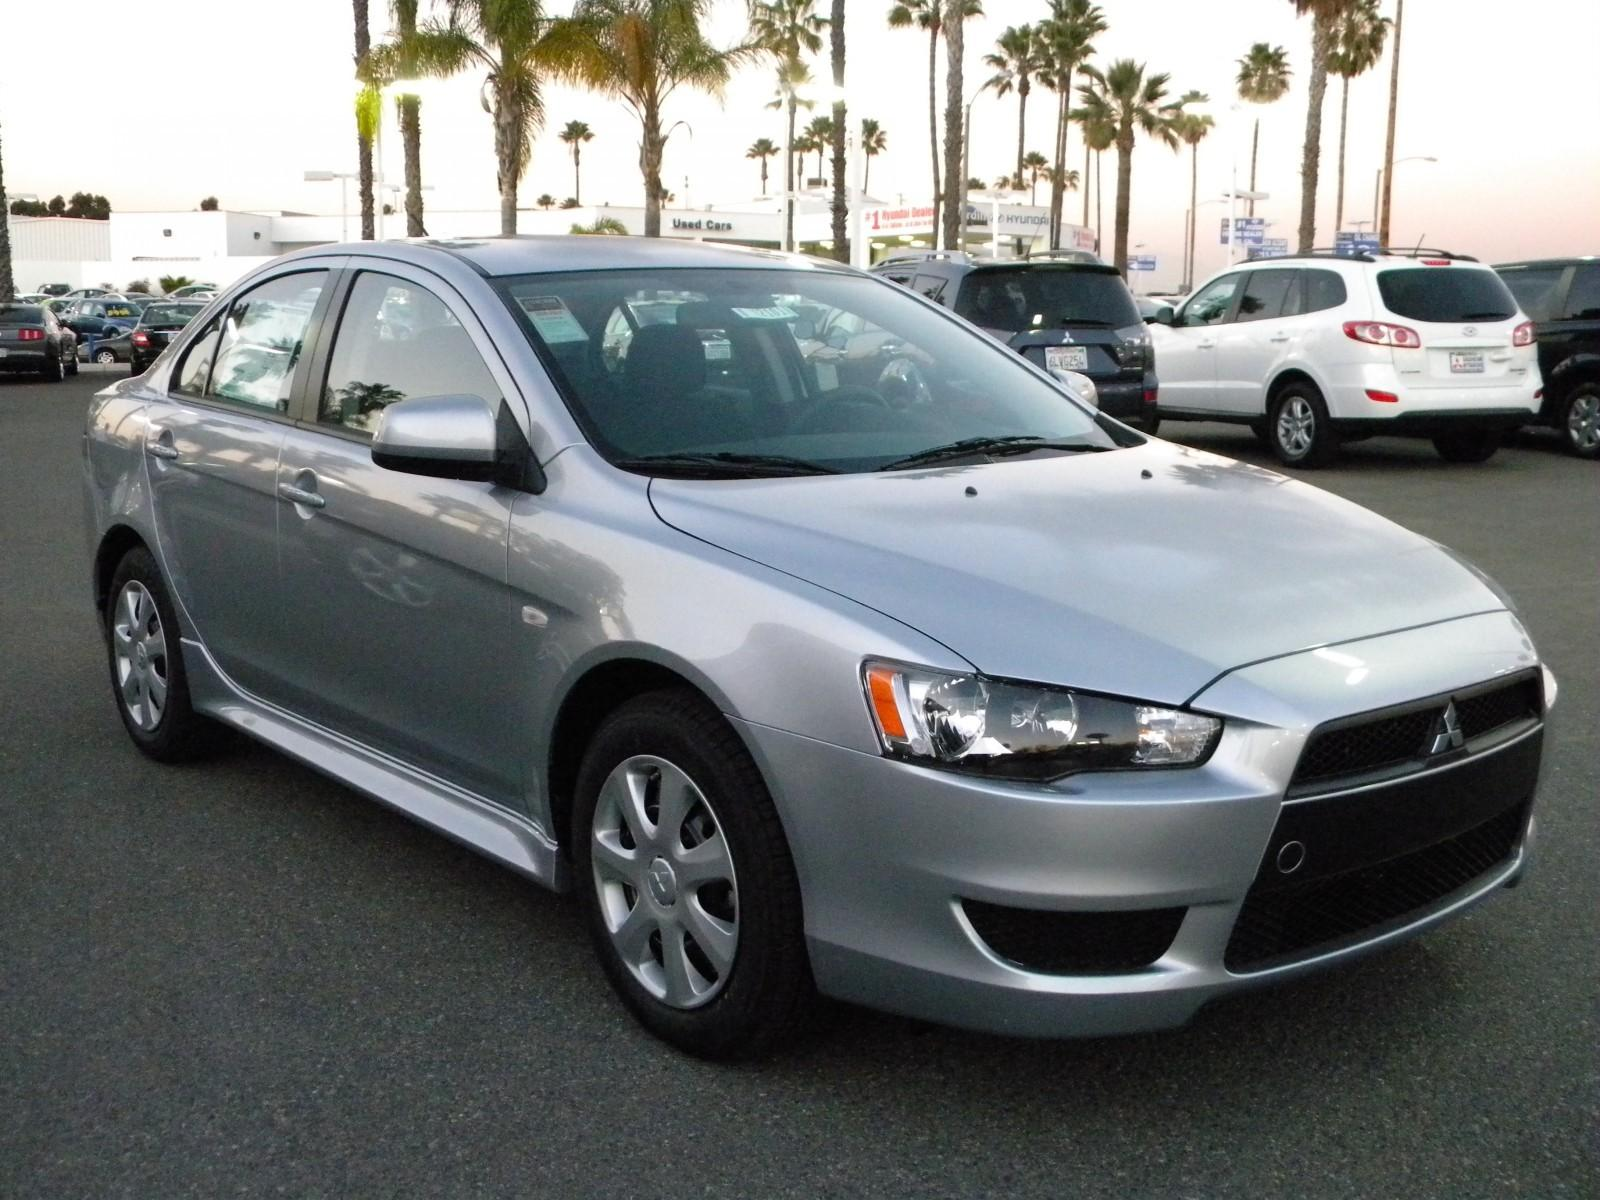Mitsubishi: (1416, 688, 1499, 769)
